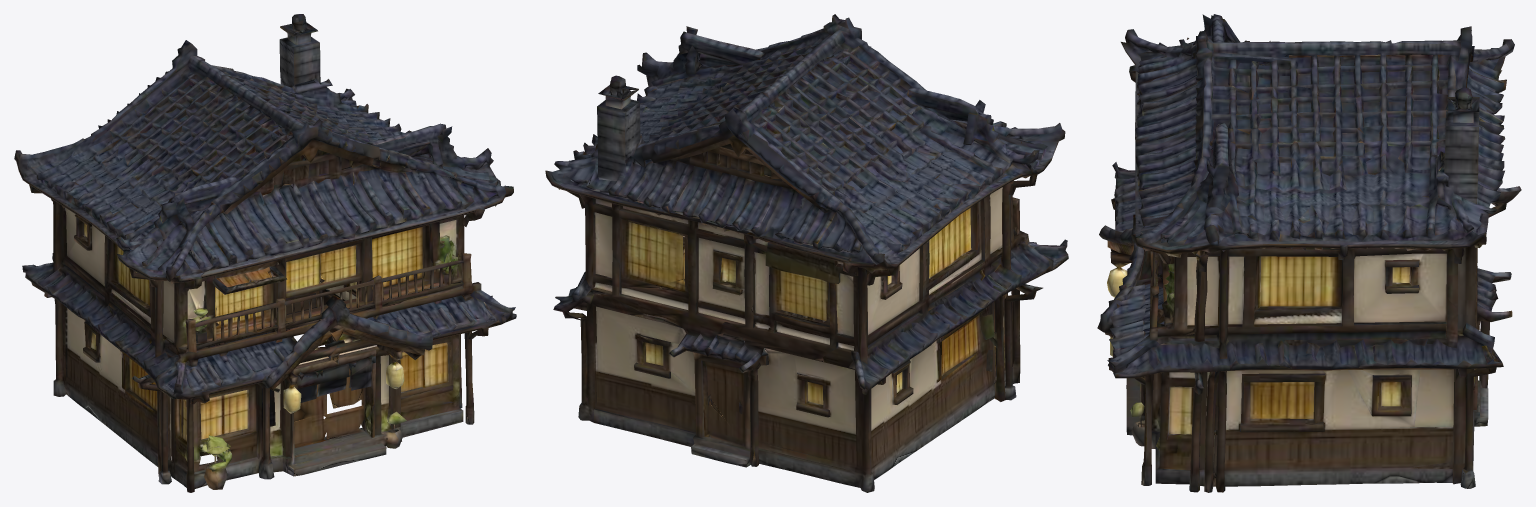
The model's file is candidate.glb.
3 renders of one model, left to right at view 1: azimuth 30°, elevation 25°; view 2: azimuth 150°, elevation 25°; view 3: azimuth 270°, elevation 25°, orthographic. The views are drawn at different scales.
Visible parts, largest first — view 1: compact__hotel_2__native_mobile; view 2: compact__hotel_2__native_mobile; view 3: compact__hotel_2__native_mobile.
Part boxes in pixels (box(x1,y1,x2,y2)): compact__hotel_2__native_mobile: box(14, 14, 516, 492); compact__hotel_2__native_mobile: box(545, 14, 1068, 492); compact__hotel_2__native_mobile: box(1097, 14, 1521, 492).
Size of the model in its own units: 1 by 0.8335 by 0.8343.
Materials: 1 (1 with a texture image).
